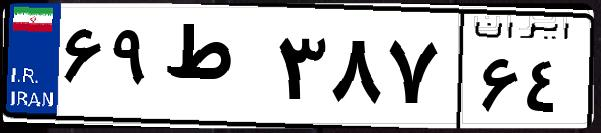3: (270, 28, 330, 110)
4: (525, 38, 570, 115)
6: (57, 26, 110, 100), (475, 38, 525, 113)
7: (385, 28, 445, 110)
8: (330, 28, 385, 110)
9: (110, 28, 158, 98)
ط: (158, 20, 270, 120)
